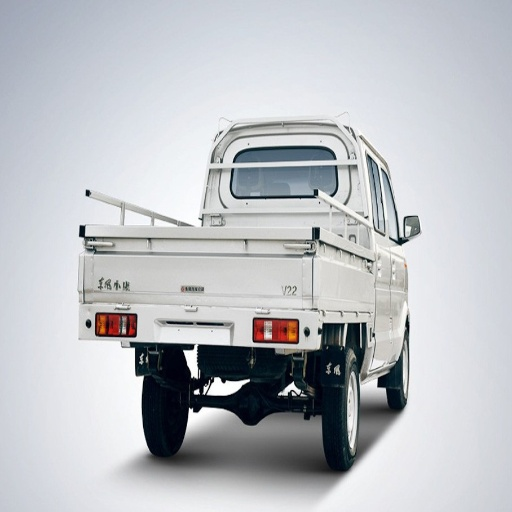trunk: (153, 230, 300, 312), (336, 276, 397, 338)
